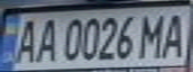0: (60, 15, 84, 63), (81, 14, 103, 62)
2: (100, 12, 124, 61)
6: (115, 11, 142, 61)
A: (157, 9, 193, 58), (9, 16, 42, 64), (30, 15, 60, 64)
M: (136, 10, 172, 60)
